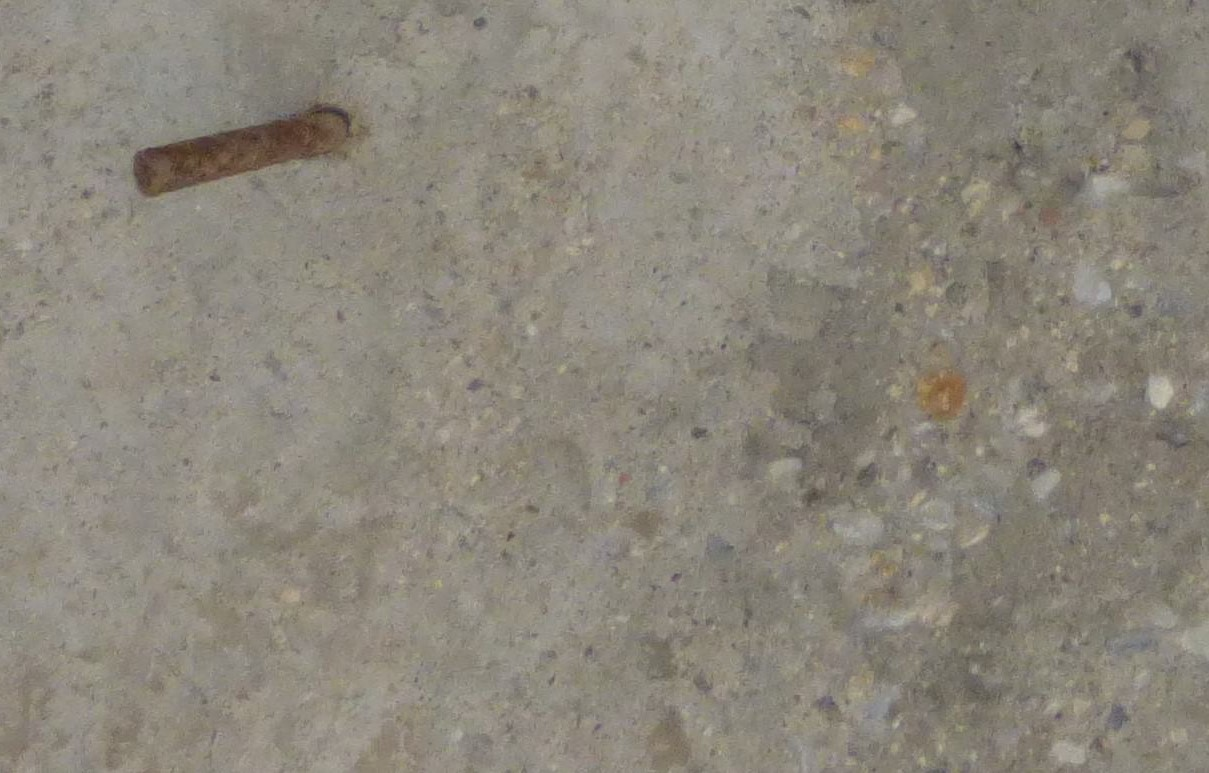Exposed reinforcement: (132, 110, 348, 200)
